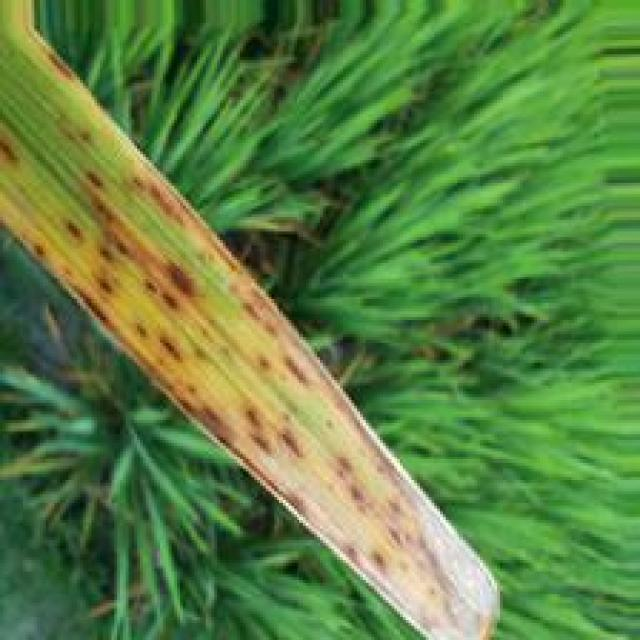Narrow_Brown_Leaf_Spot: (0, 0, 495, 640)
